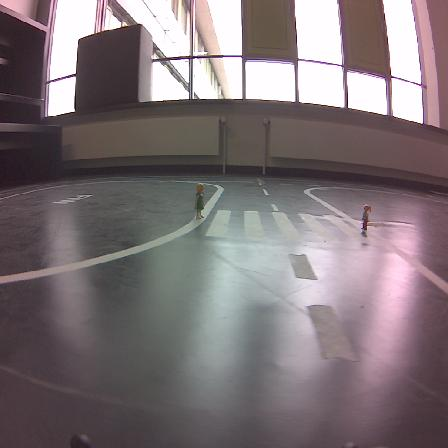CHILD: (361, 204, 371, 230)
PERSON: (194, 184, 203, 219)
